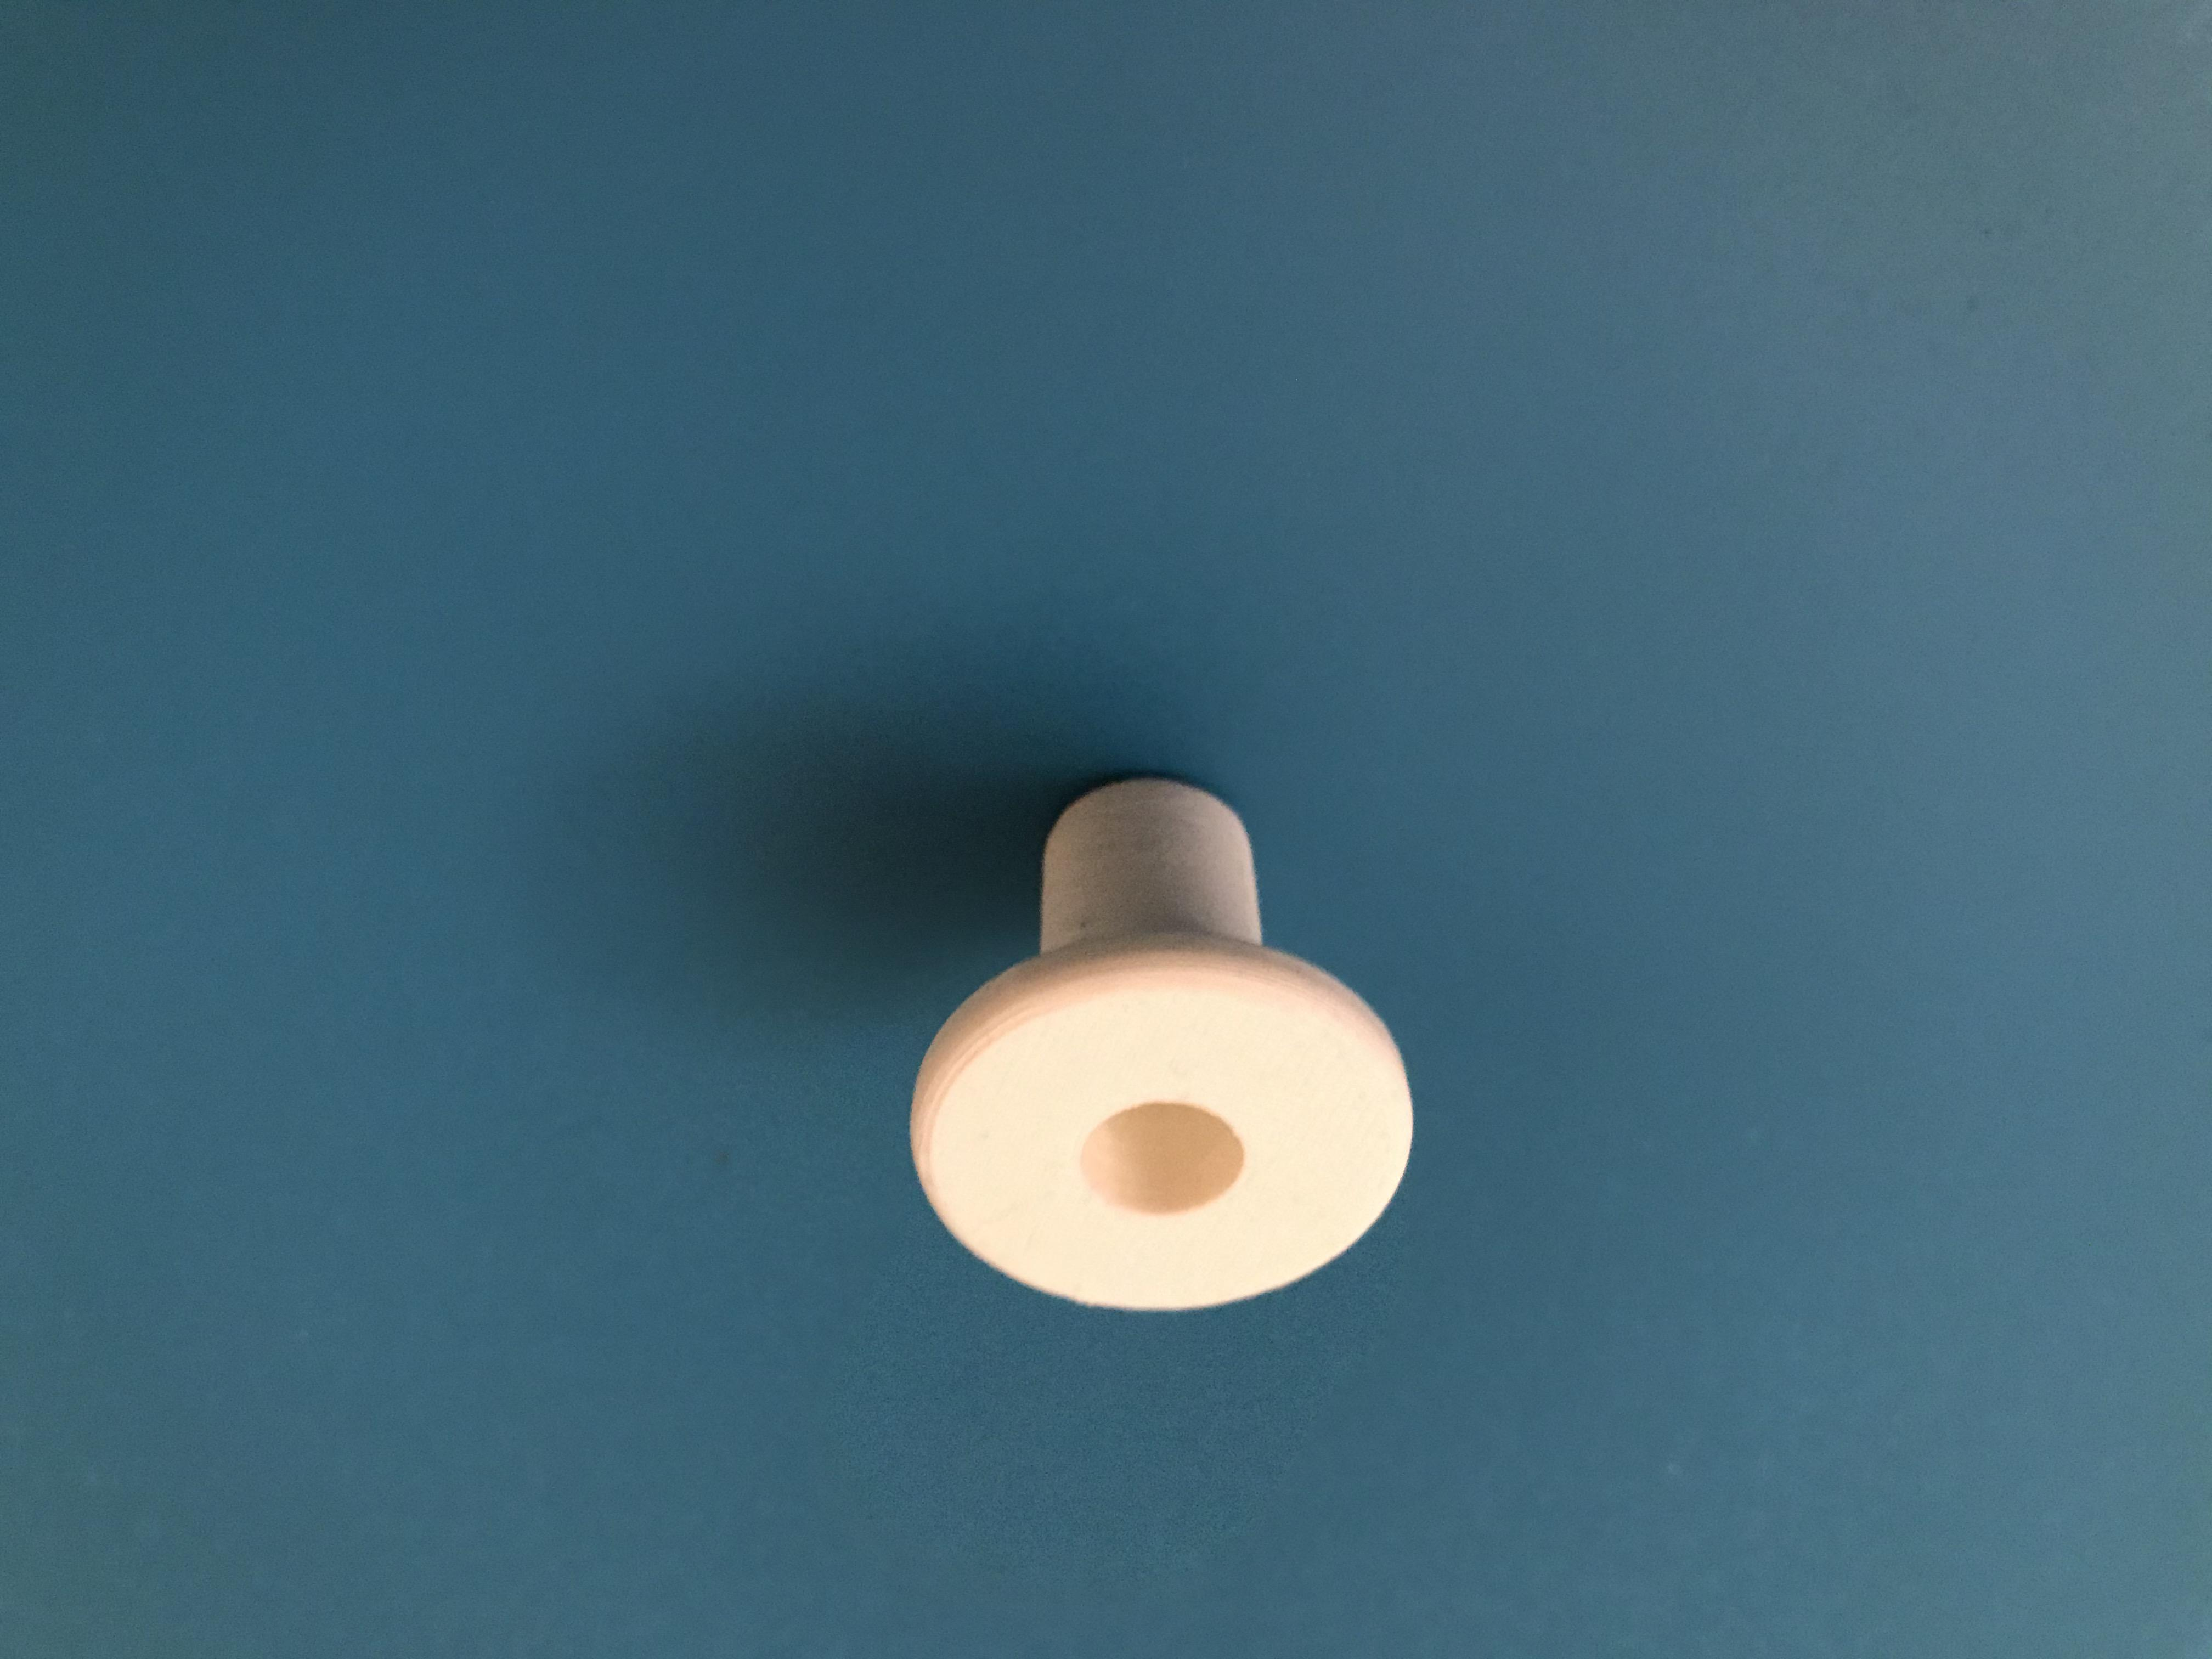White Cone: (887, 751, 1420, 1326)
